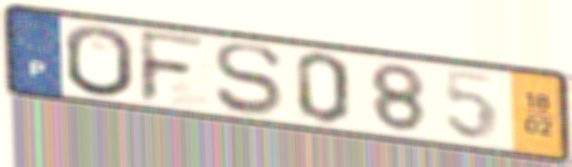0: (292, 49, 355, 128)
5: (442, 66, 503, 144)
8: (364, 63, 430, 134)
F: (135, 27, 211, 107)
O: (61, 23, 137, 99)
S: (211, 42, 286, 118)
